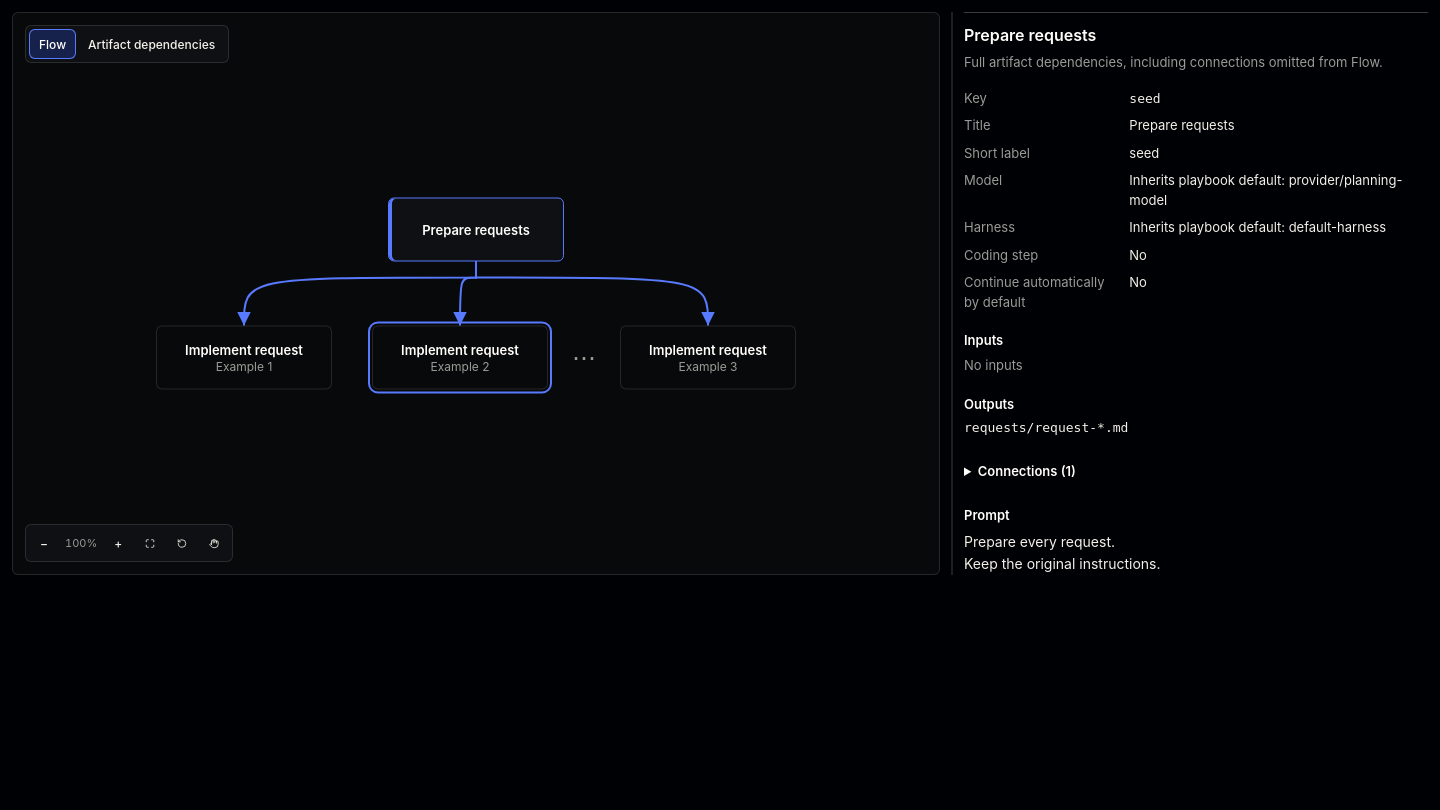
Test: inspects authored definitions and navigates selector connections without execution state
The image size is (1440, 810).
Click the button with aria-label "Inspect Implement request — example 2" at (460, 358), box [372,326,548,390]
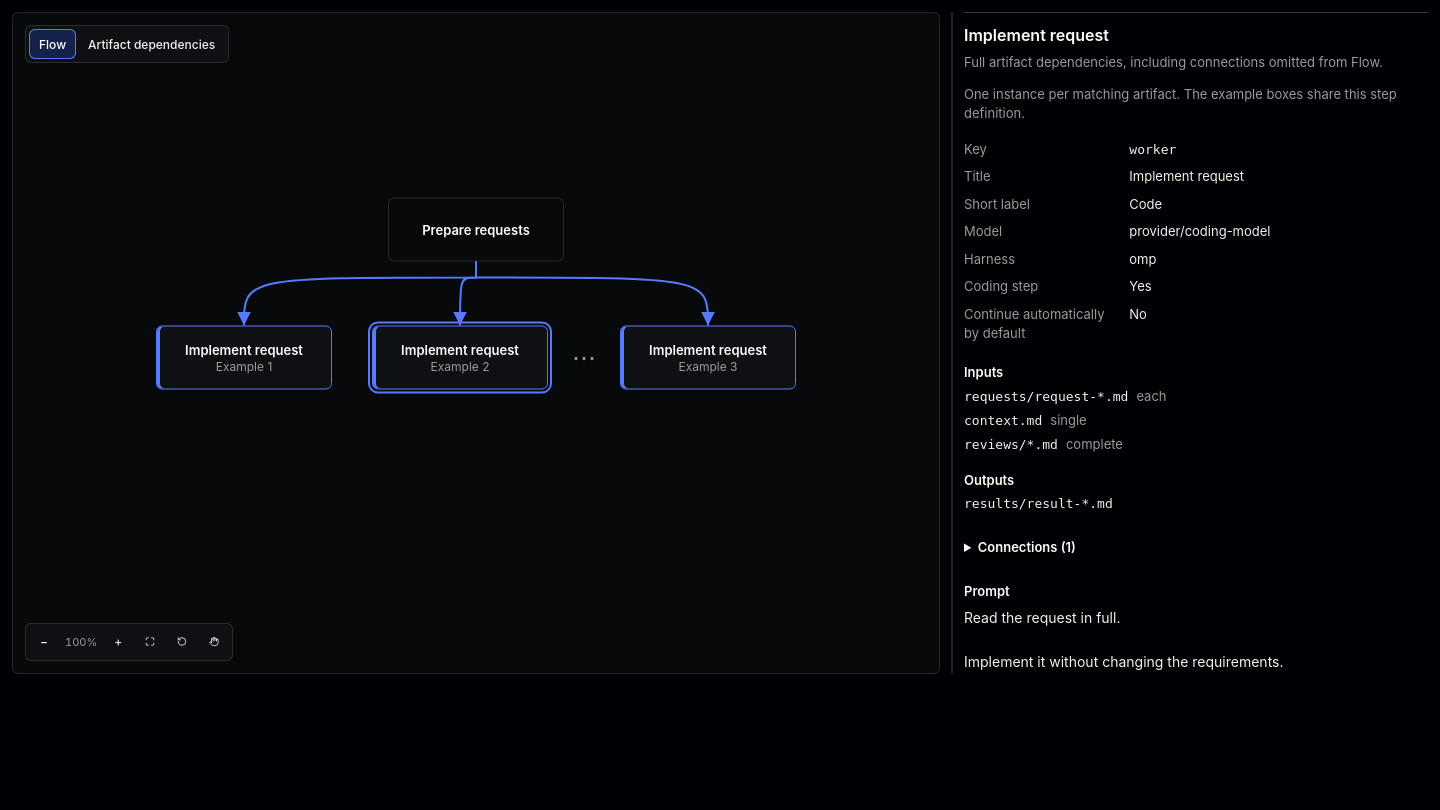
Now the text "worker" is shown, box [1129,142,1176,156]
Now the text "Code" is shown, box [1129,196,1162,212]
Now the text "provider/coding-model" is shown, box [1129,223,1270,239]
Click the heading "Connections (1)" at (1027, 546), box [978,538,1076,554]
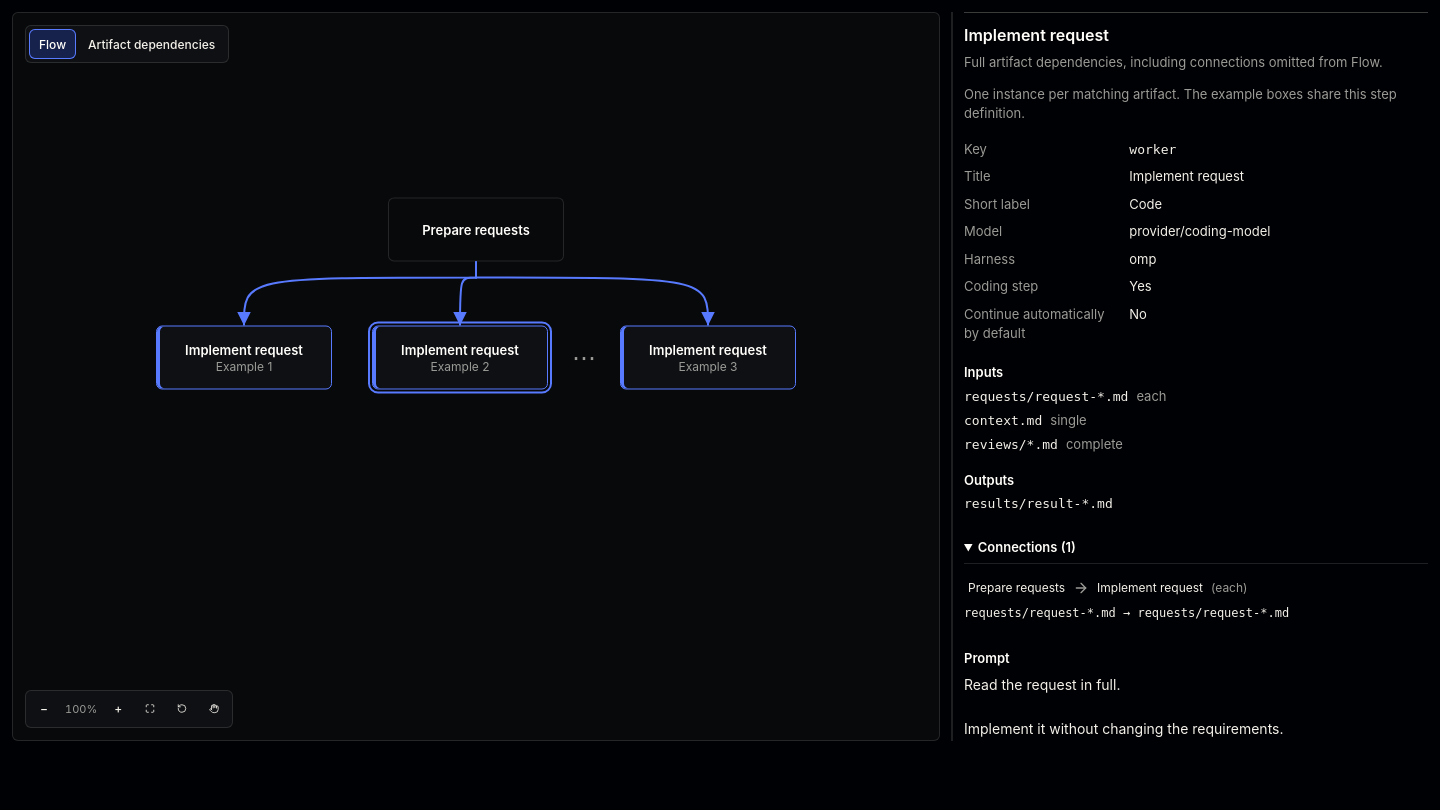
Click the button "Prepare requests" below "Connections (" at (1017, 588), box [964,572,1069,604]
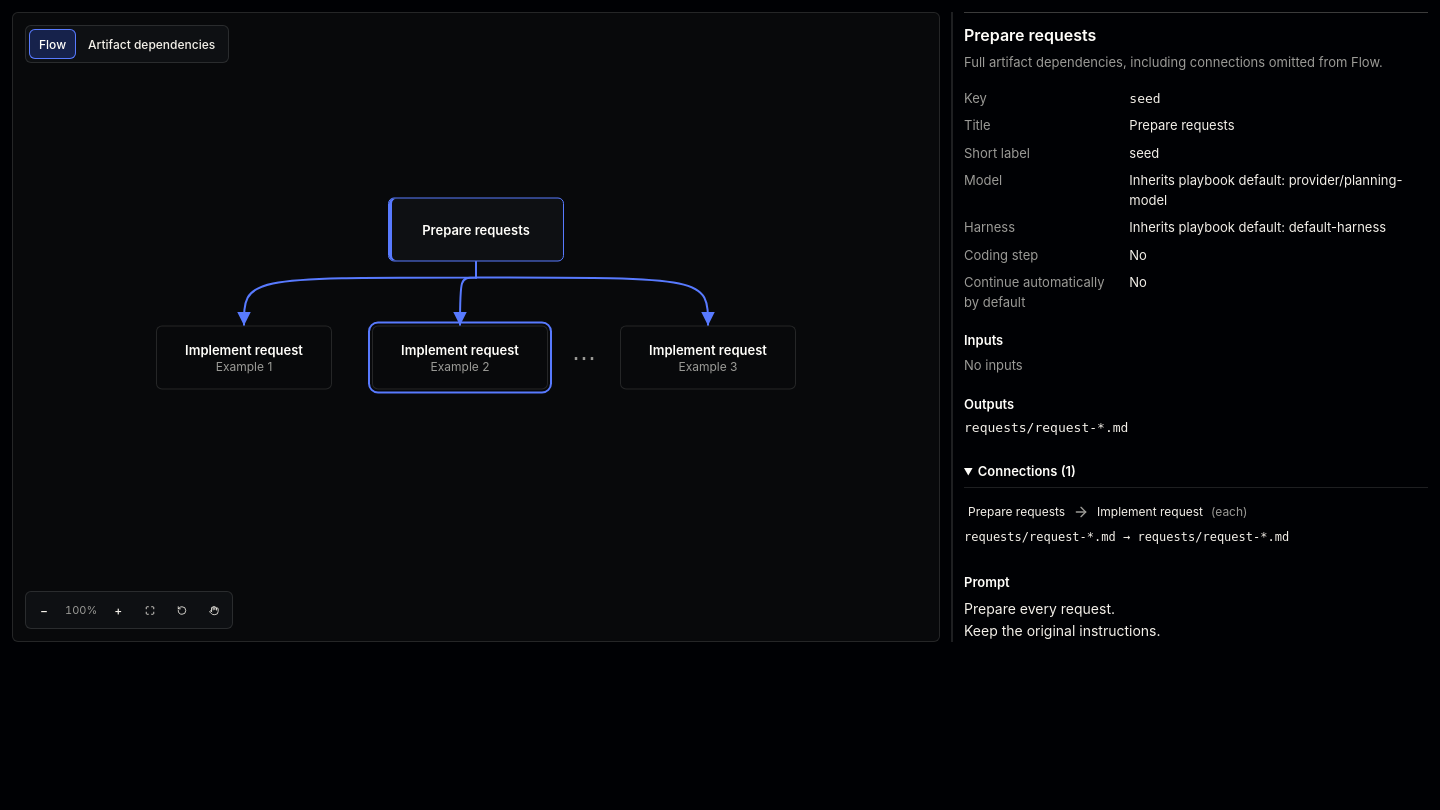
Now the element named "Prepare requests definition" is shown, box [964,12,1428,642]
